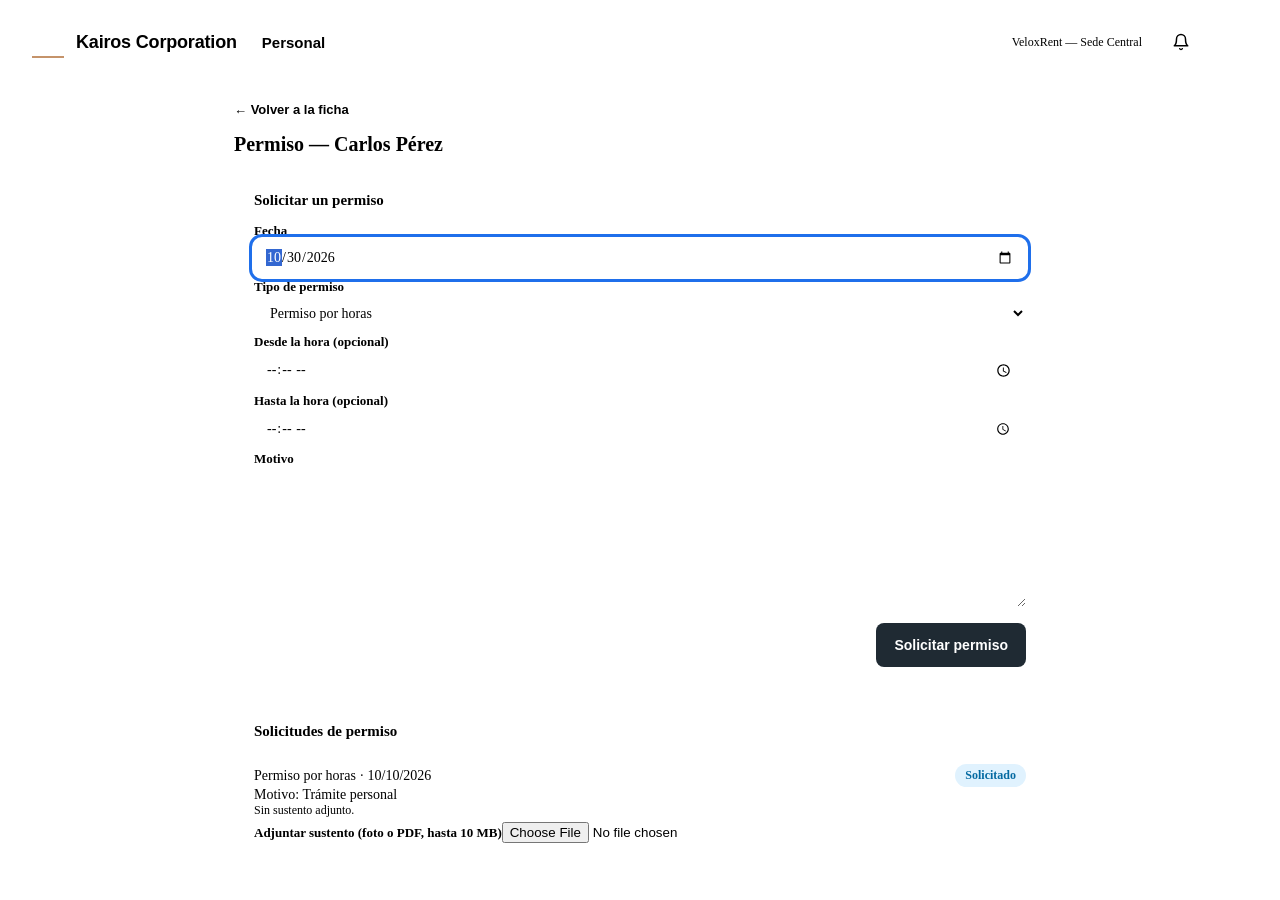
LeavesScreen (ADP-04) › envia la solicitud con tipo, fecha y motivo
In the date field labelled "Fecha": (640, 258) [254, 239, 1026, 277], type "2026-10-12"
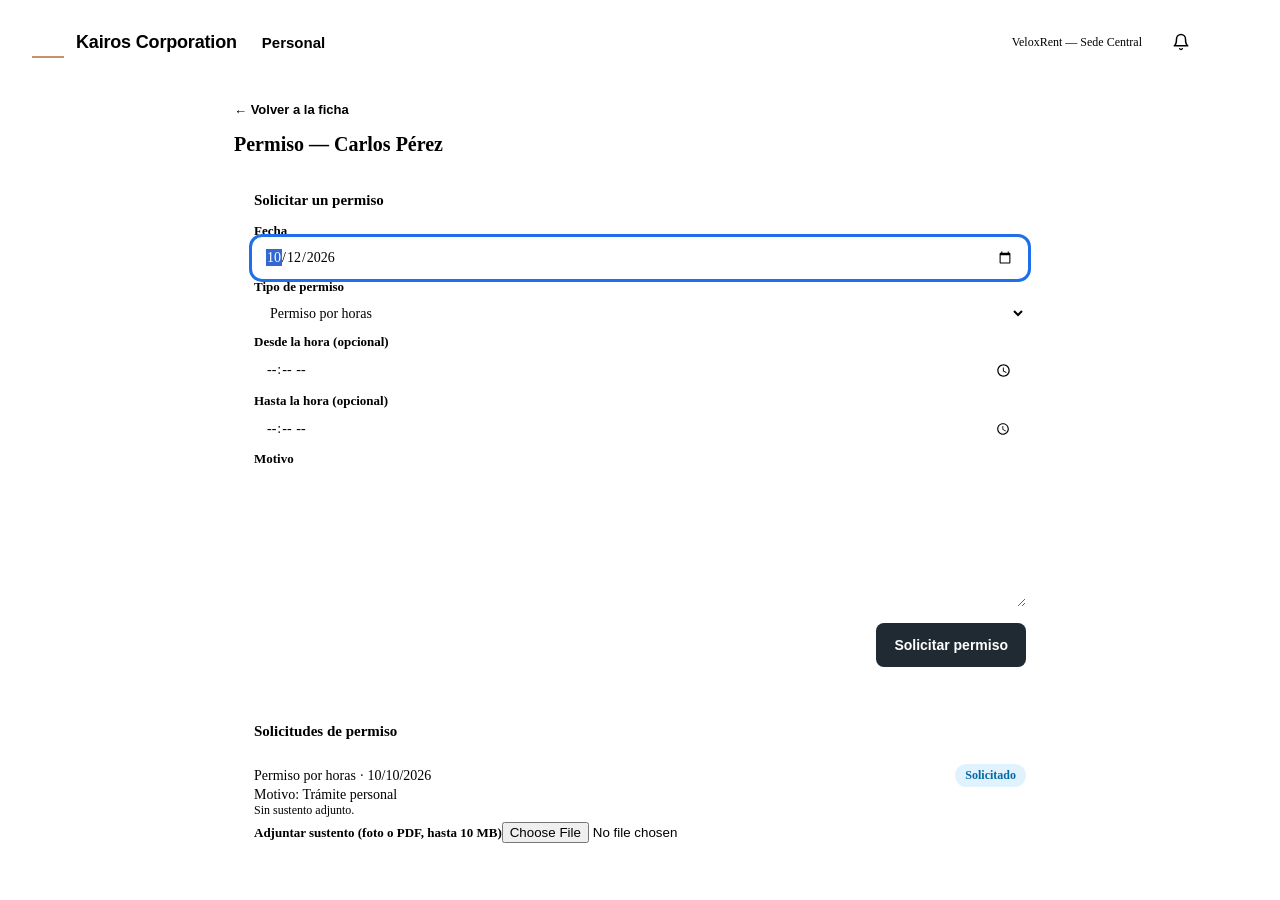
Select "Salida antes de hora" in the dropdown labelled "Tipo de permiso": (640, 314) [254, 295, 1026, 332]
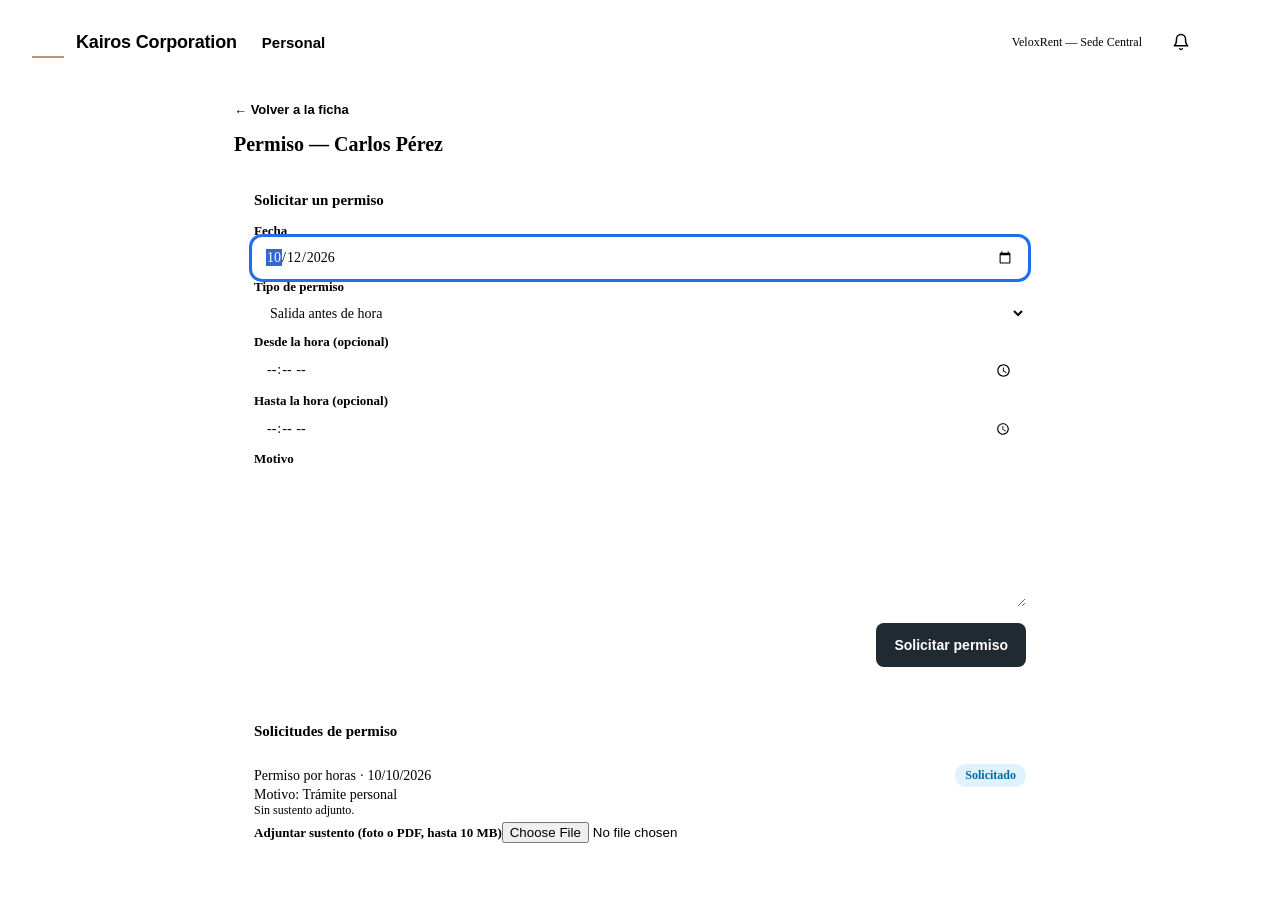
In the text box labelled "Motivo": (640, 537) [254, 467, 1026, 607], type "Cita médica"
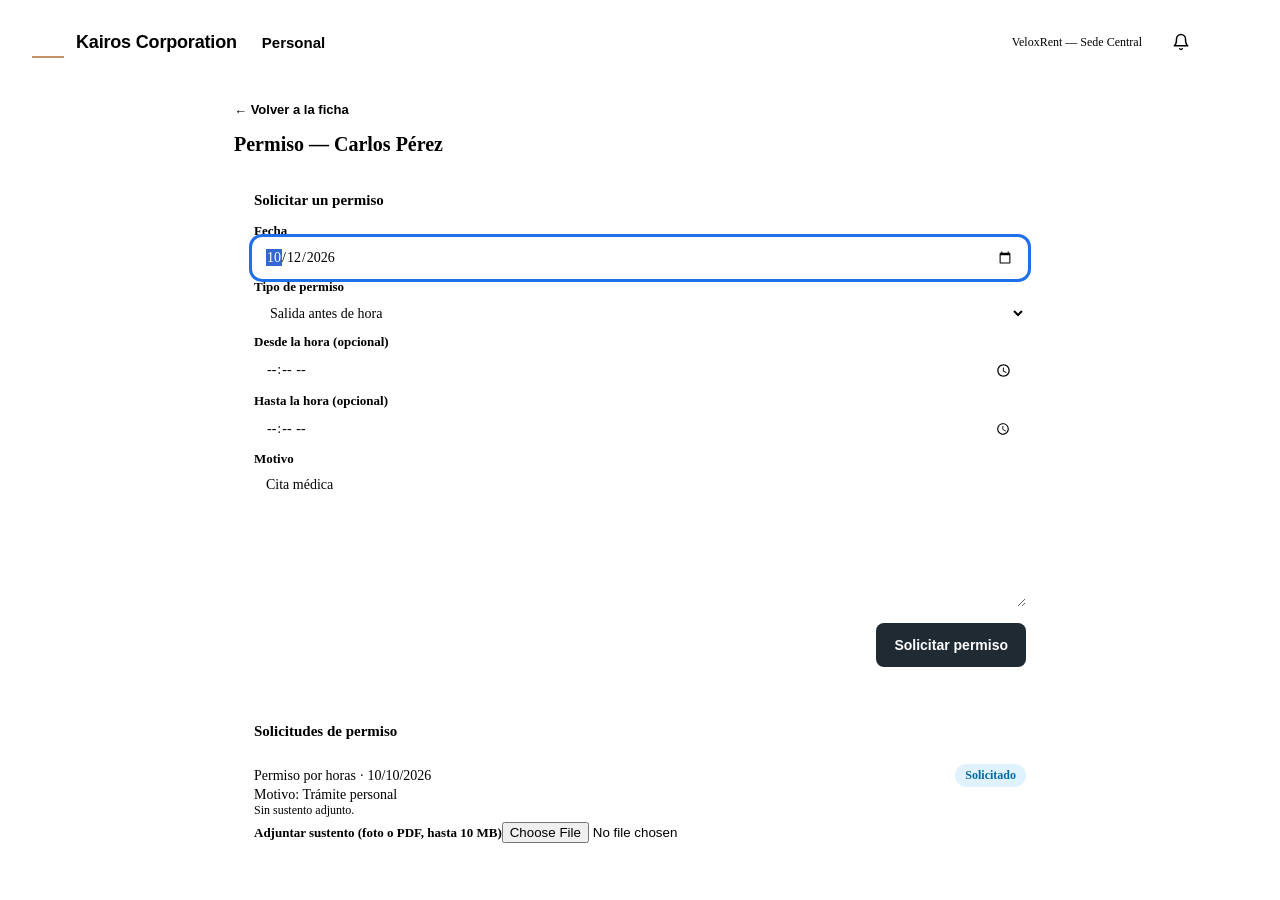
Click the button "Solicitar permiso": (951, 645) [876, 623, 1026, 667]
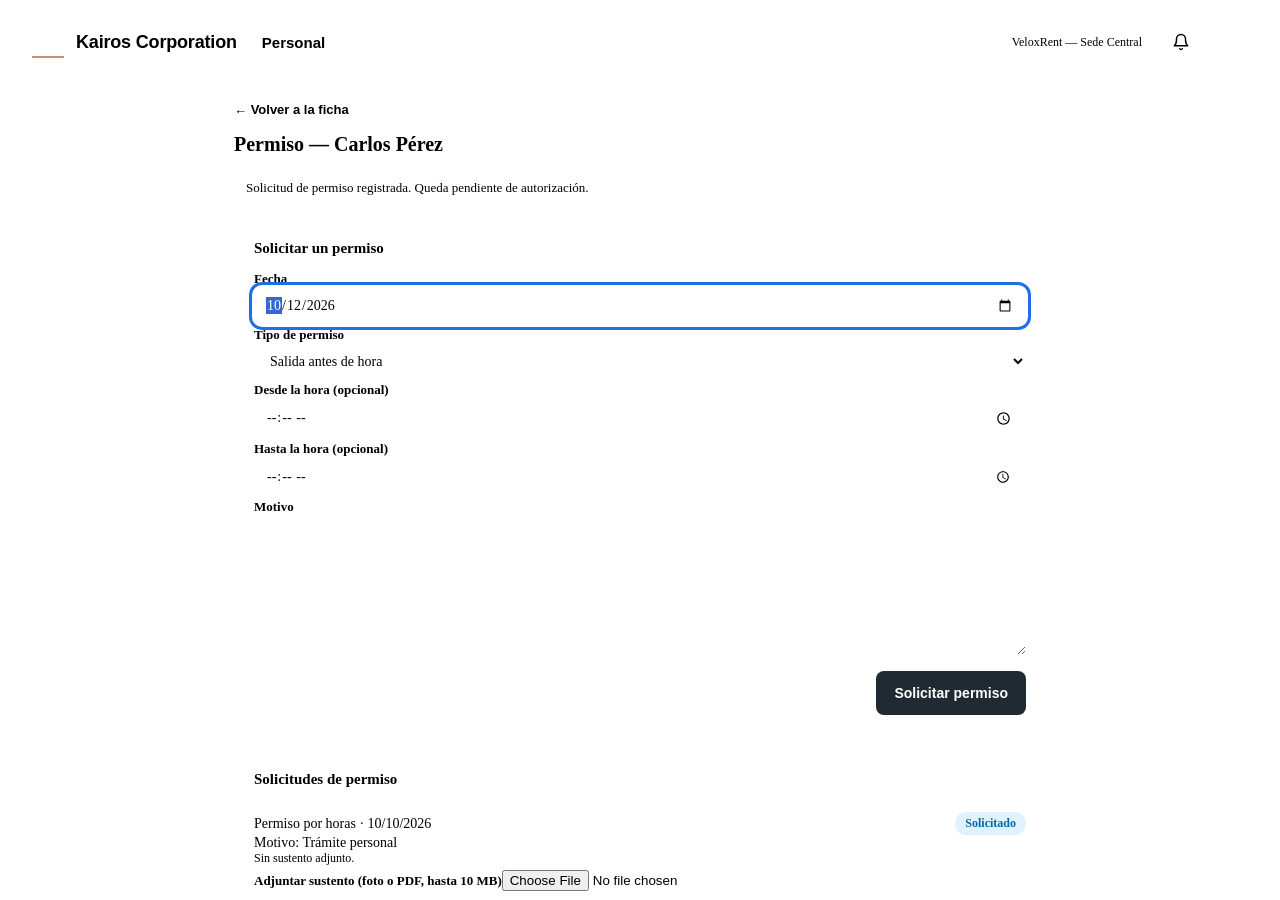
Expected: the text "Solicitud de permiso registrada. Queda pendiente de autorización." is shown, [246, 180, 589, 195]
